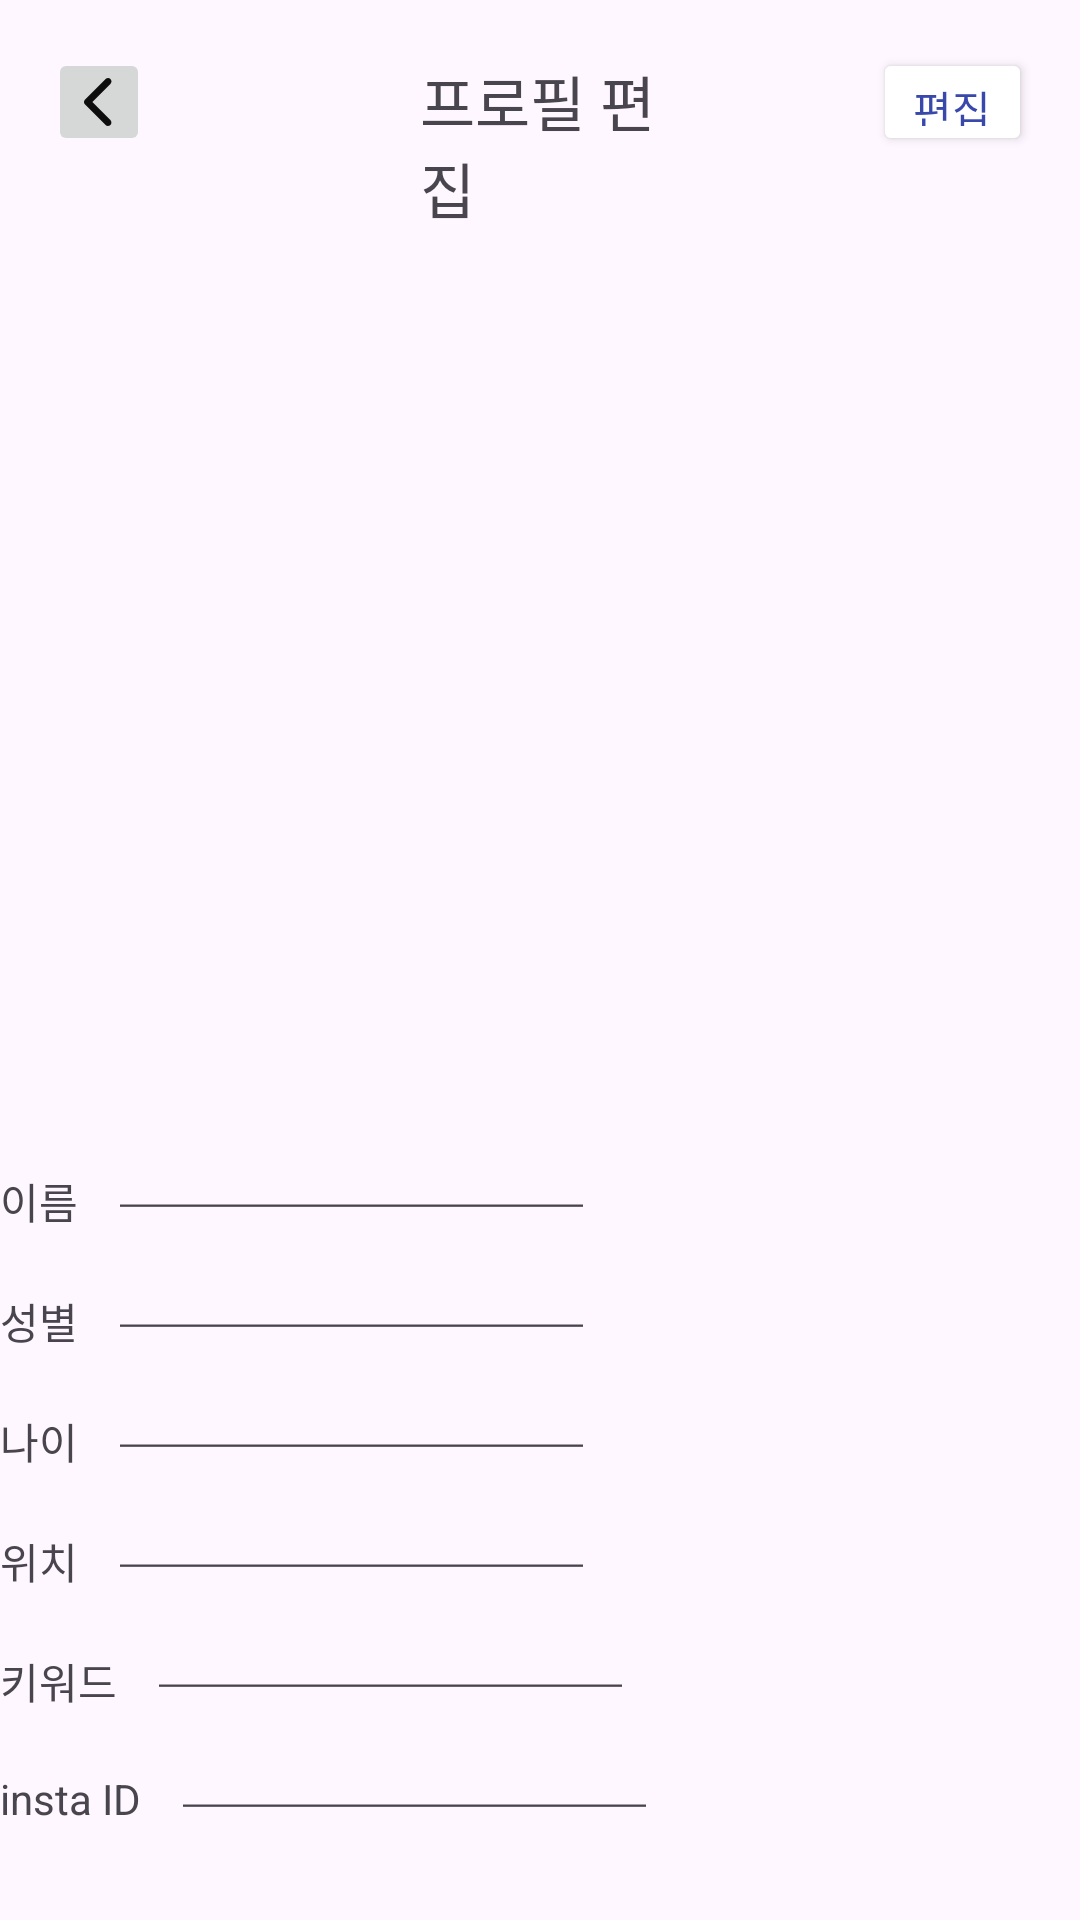

Locate icon controls on the screen. Image size 1080w x 1920h, boxes as (x1, y1, x2, y2).
back: (60, 66, 138, 138)
